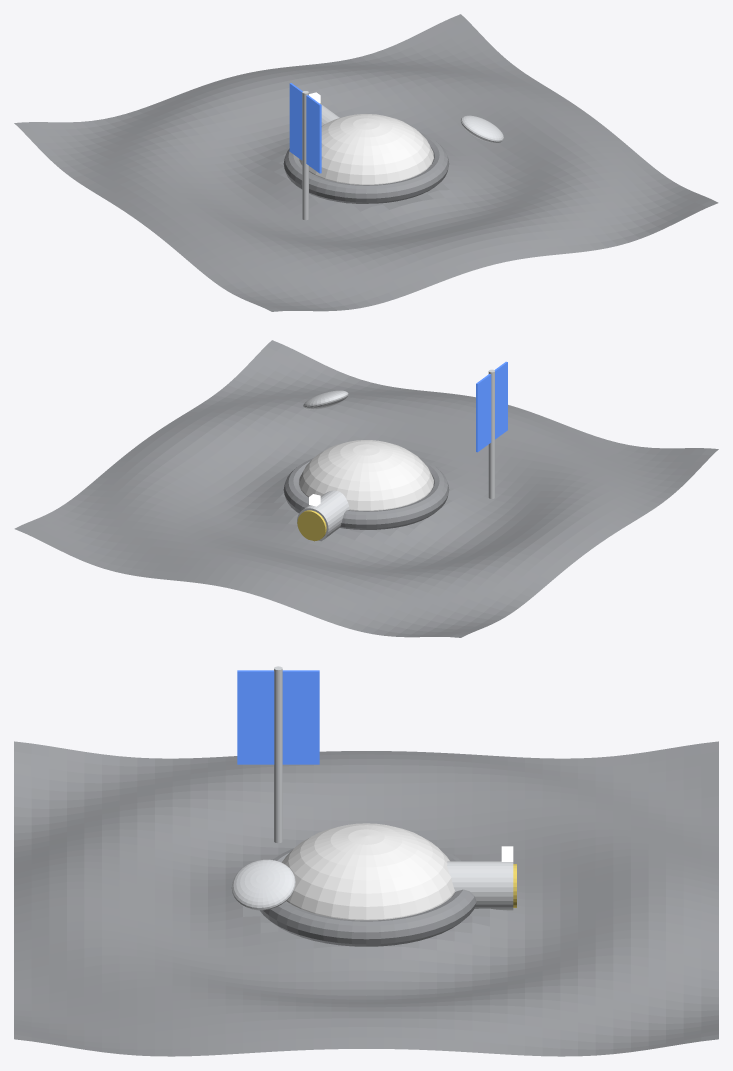
Rendered from lunar_habitat.glb.
3 renders of one model, top to bottom at view 1: azimuth 30°, elevation 25°; view 2: azimuth 150°, elevation 25°; view 3: azimuth 270°, elevation 25°, orthographic. The views are drawn at different scales.
Parts seen in each view (by area): view 1: Lunar_Terrain_Regolith, Artemis_Habitat_Main_Dome, Regolith_Shielding_Berm, Solar_Tower_Panels, Solar_Tower_Mast, High_Gain_Comms_Dish; view 2: Lunar_Terrain_Regolith, Artemis_Habitat_Main_Dome, Regolith_Shielding_Berm, Solar_Tower_Panels, Habitat_EVA_Airlock, EVA_Airlock_Hatch, Solar_Tower_Mast, High_Gain_Comms_Dish; view 3: Lunar_Terrain_Regolith, Artemis_Habitat_Main_Dome, Solar_Tower_Panels, Regolith_Shielding_Berm, Habitat_EVA_Airlock, High_Gain_Comms_Dish, Solar_Tower_Mast.
Boxes of the visible parts, <box> form: Lunar_Terrain_Regolith: <box>14,14,718,311</box>; Artemis_Habitat_Main_Dome: <box>299,114,433,184</box>; Regolith_Shielding_Berm: <box>283,132,449,203</box>; Solar_Tower_Panels: <box>289,83,321,173</box>; Solar_Tower_Mast: <box>302,91,308,220</box>; High_Gain_Comms_Dish: <box>460,115,503,142</box>; Lunar_Terrain_Regolith: <box>14,340,718,637</box>; Artemis_Habitat_Main_Dome: <box>299,440,433,510</box>; Regolith_Shielding_Berm: <box>283,458,449,529</box>; Solar_Tower_Panels: <box>476,361,507,452</box>; Habitat_EVA_Airlock: <box>297,490,349,541</box>; EVA_Airlock_Hatch: <box>297,510,326,541</box>; Solar_Tower_Mast: <box>488,369,494,498</box>; High_Gain_Comms_Dish: <box>303,390,348,409</box>; Lunar_Terrain_Regolith: <box>14,741,718,1056</box>; Artemis_Habitat_Main_Dome: <box>282,823,454,920</box>; Solar_Tower_Panels: <box>237,670,319,764</box>; Regolith_Shielding_Berm: <box>260,848,476,946</box>; Habitat_EVA_Airlock: <box>447,861,513,910</box>; High_Gain_Comms_Dish: <box>231,859,295,910</box>; Solar_Tower_Mast: <box>274,666,282,843</box>.
Size of the model in its own units: 24 by 8.13 by 24.
